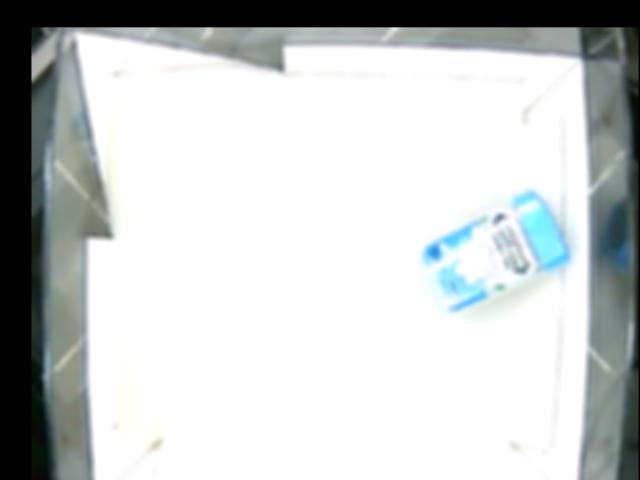Bottle: (418, 190, 570, 314)
